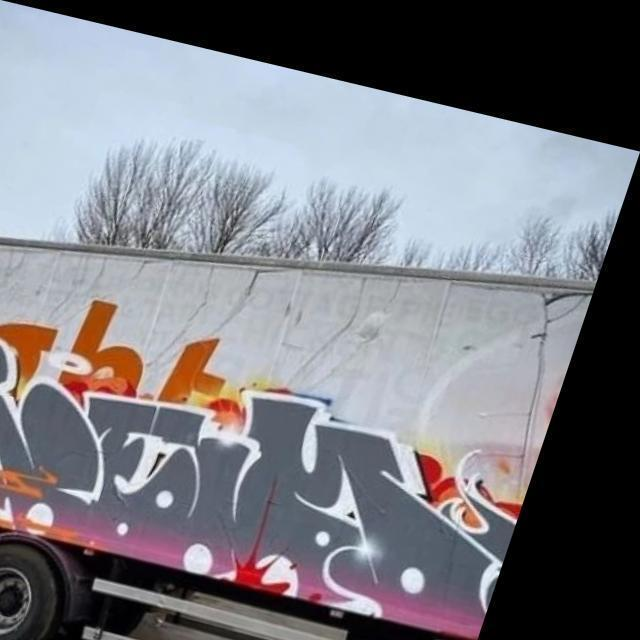nonspitting: (0, 296, 514, 640)
